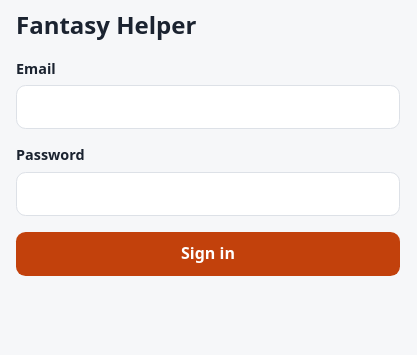
Test: sign-in with a password › says so when the sign-in service cannot be reached
Step 1. Type "me@example.com" into the field labelled "Email" → (208, 107), box [16, 85, 400, 129]
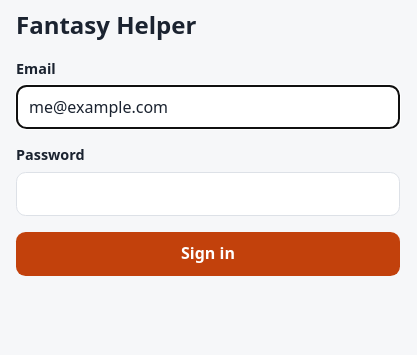
Step 2. Type "pw" into the password field labelled "Password" → (208, 194), box [16, 172, 400, 216]
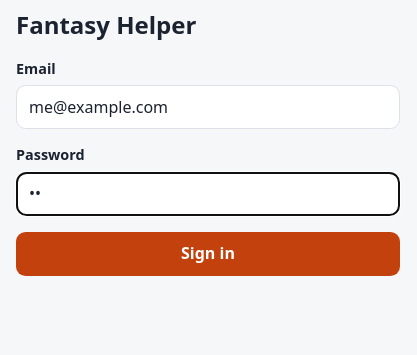
Step 3. Click the button "Sign in" → (208, 254), box [16, 232, 400, 276]
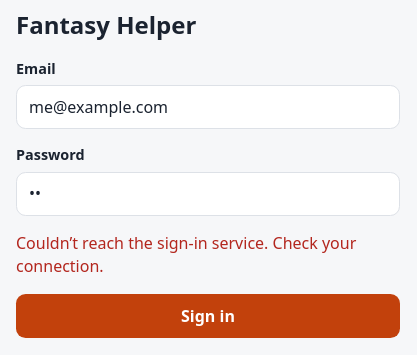
Now the message reads "Couldn’t reach the sign-in service. Check your connection.", box [16, 232, 356, 277]
